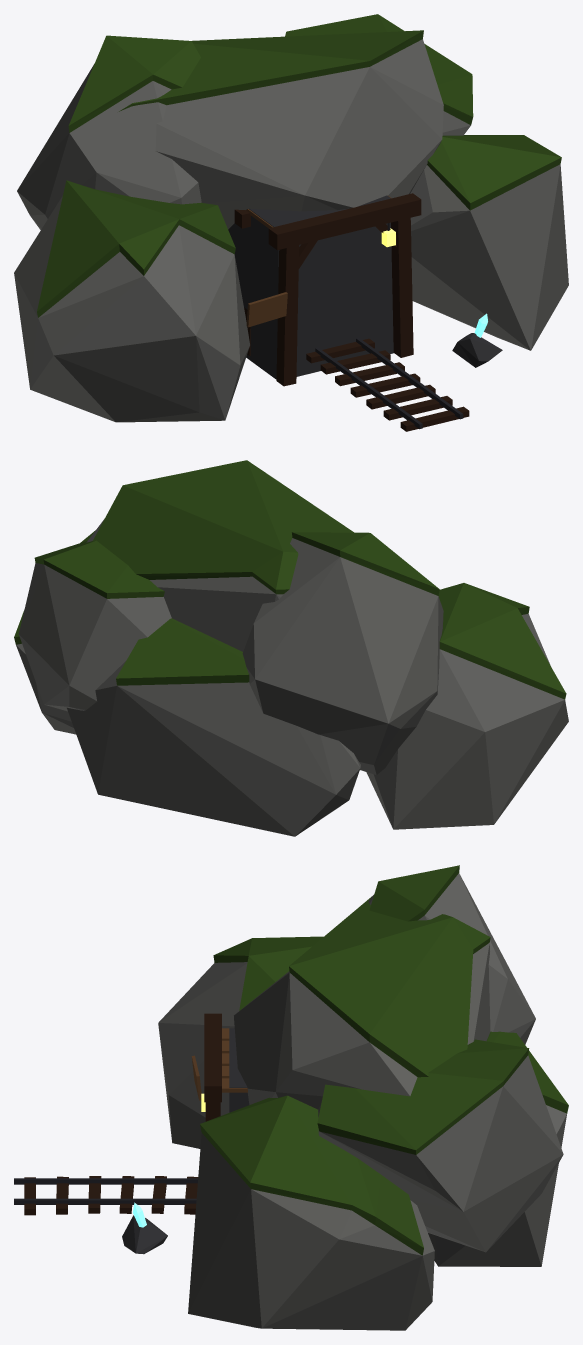
The model's file is entrada_mina.fbx.
The picture shows the model from 3 angles, top to bottom: view 1: azimuth 30°, elevation 25°; view 2: azimuth 150°, elevation 25°; view 3: azimuth 270°, elevation 25°; orthographic projection. The views are drawn at different scales.
Visible parts, largest first — view 1: entrada_mina; view 2: entrada_mina; view 3: entrada_mina.
Boxes of the visible parts, x1,y1,x2,y2 form: entrada_mina: [14, 14, 568, 431]; entrada_mina: [14, 460, 568, 836]; entrada_mina: [14, 865, 568, 1330].
Bounding box in the file's own units: 11.87 × 6.21 × 10.31.
